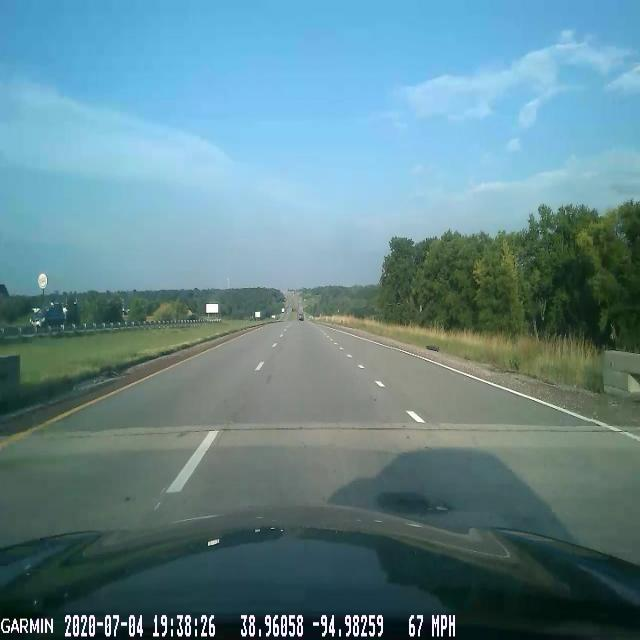Pothole: (377, 484, 452, 520)
